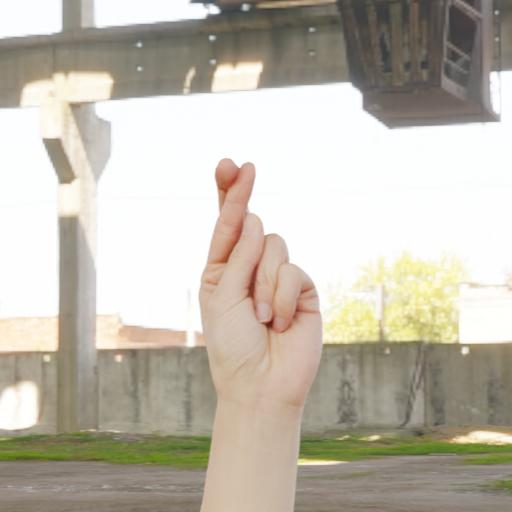R: (190, 128, 328, 502)
